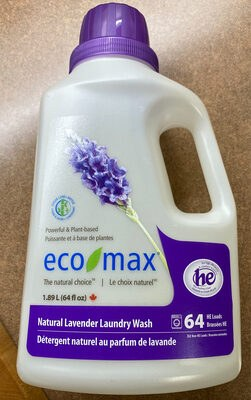Natural Lavender Laundry Wash: (13, 20, 238, 380)
